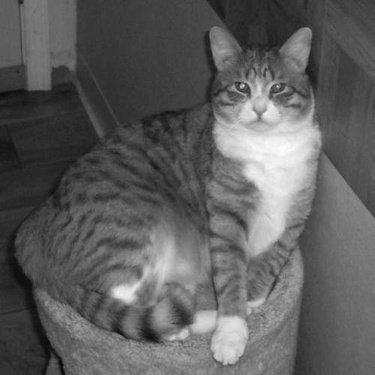cat: (12, 18, 319, 363)
